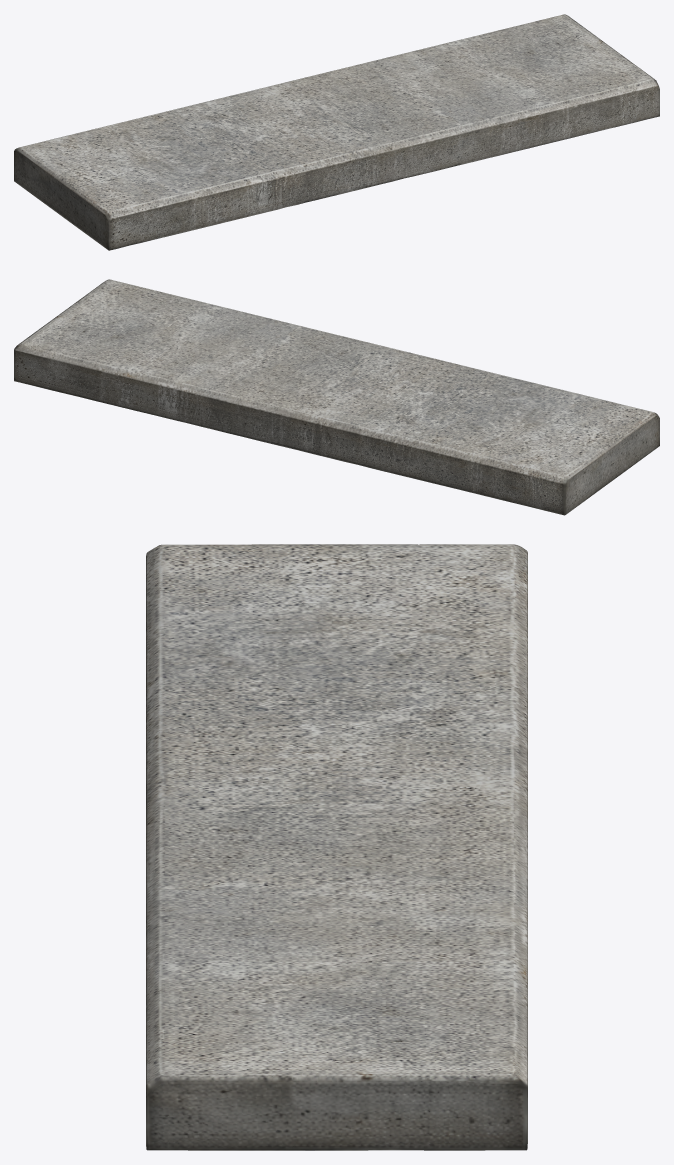
The model's file is quay-coping.glb.
3 views of the same model, one above another, from view 1: azimuth 30°, elevation 25°; view 2: azimuth 150°, elevation 25°; view 3: azimuth 270°, elevation 25° (orthographic). The views are drawn at different scales.
Visible parts, largest first — view 1: quay-coping; view 2: quay-coping; view 3: quay-coping.
Part boxes in pixels (x1,y1,x2,y2): quay-coping: (14, 14, 659, 250); quay-coping: (14, 279, 659, 515); quay-coping: (146, 544, 527, 1150).
Size of the model in its own units: 4 by 0.25 by 1.2.
1 material, 1 textured.
